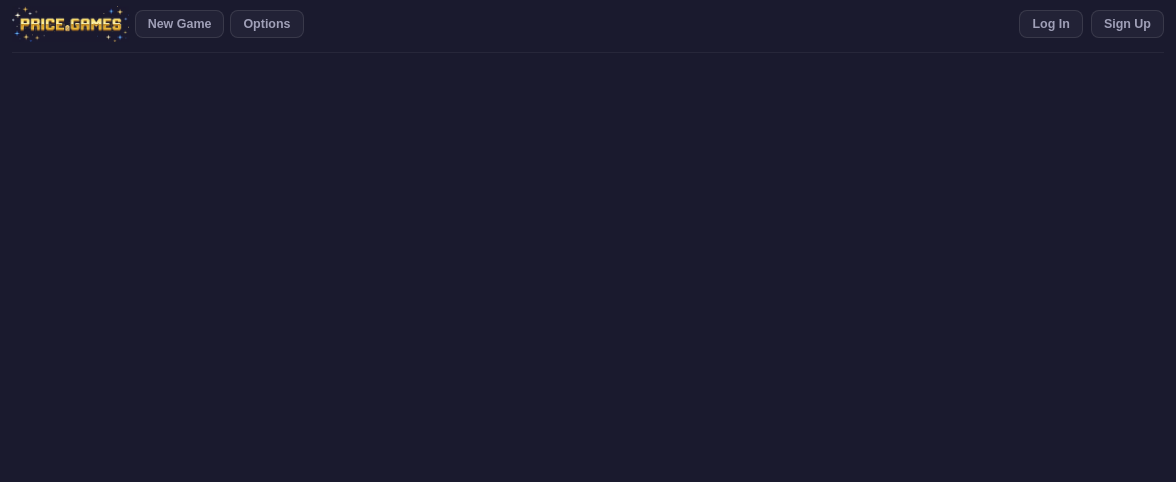
Test: TopBar › opens Options dropdown with Rounds and Currency
Click the button "Options" at {"x": 267, "y": 24}, box [230,10,304,38]
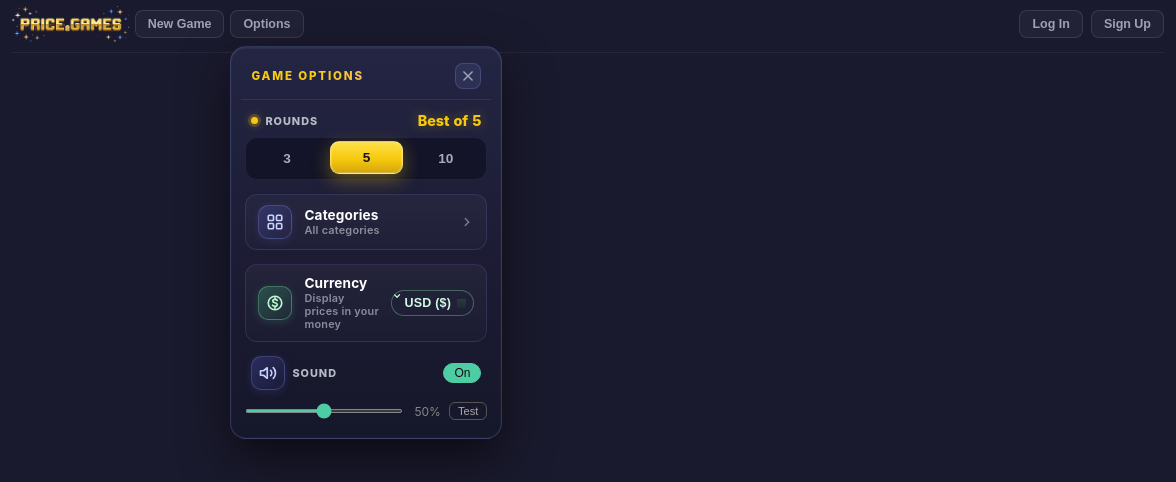
Now the text "Rounds" is shown, box [251,114,318,128]
Now the text "Currency" is shown, box [304,275,367,291]
